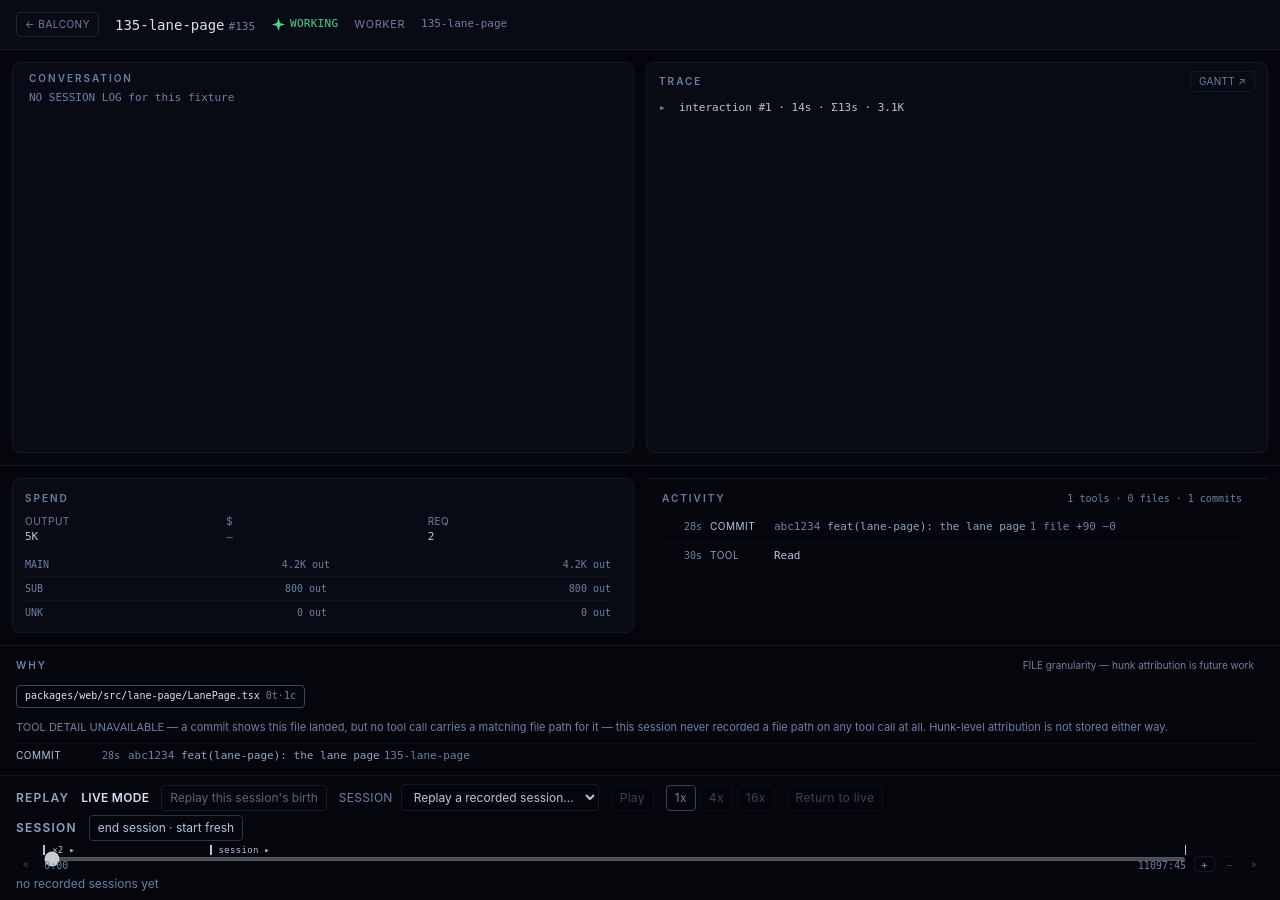
Test: LanePage — reuse, not a fork › renders #132's own TraceTree, with its gantt affordance available
This screenshot has width=1280, height=900.
Expected: the list with test id "trace-tree" is shown, top-left (659, 100), bottom-right (1245, 116)
Click the button with test id "lane-page-trace-toggle" at point(1223, 82), box top-left (1190, 71), bottom-right (1255, 92)
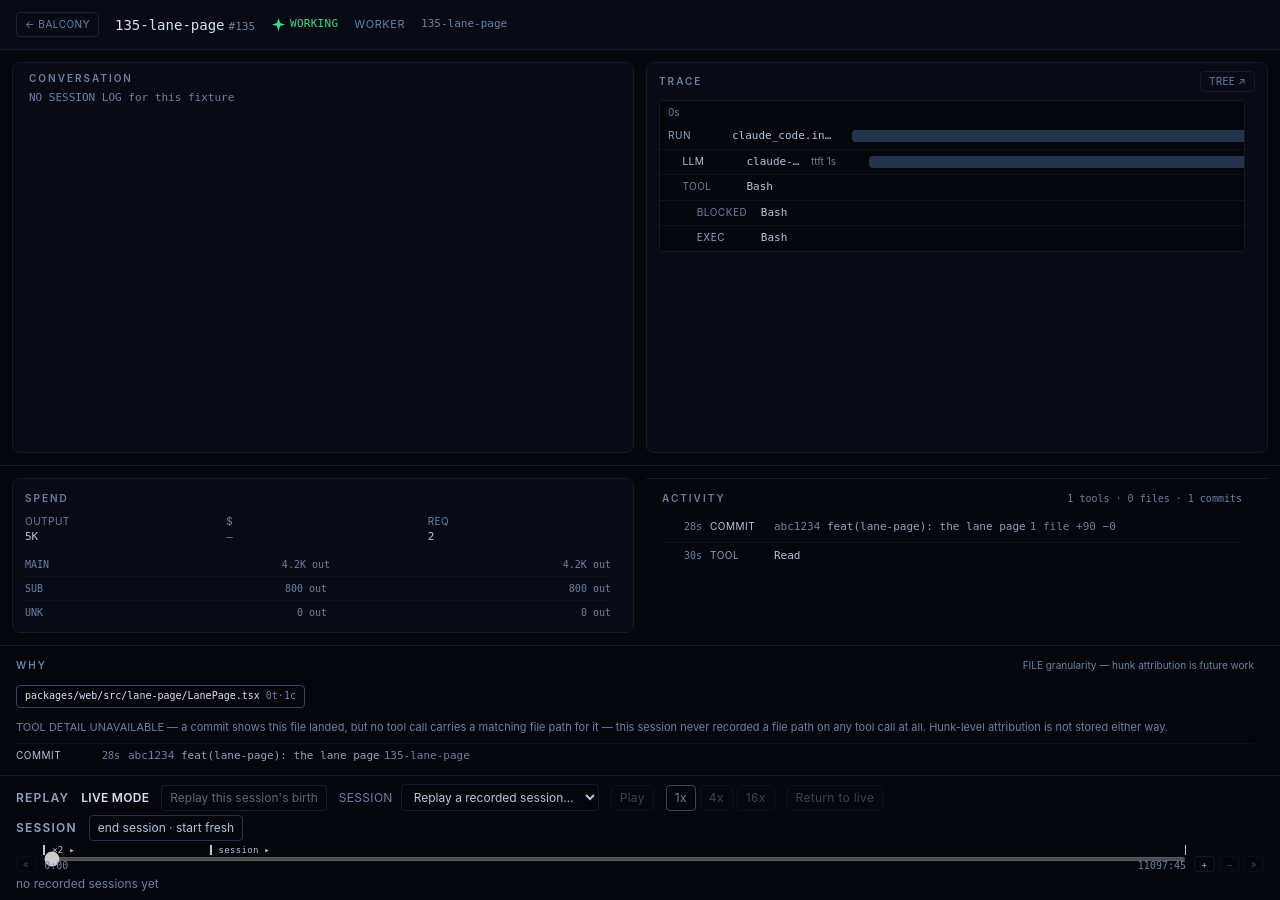
Result: the element with test id "trace-gantt" is shown at top-left (659, 100), bottom-right (1245, 252)
